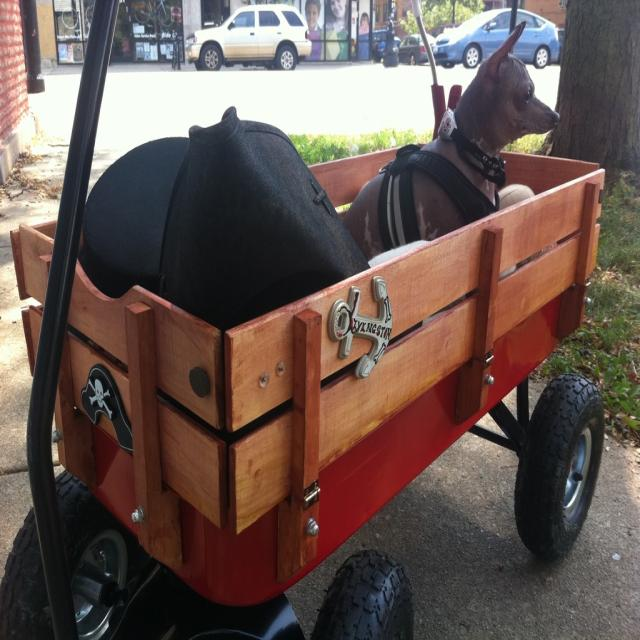car: (185, 0, 324, 57)
